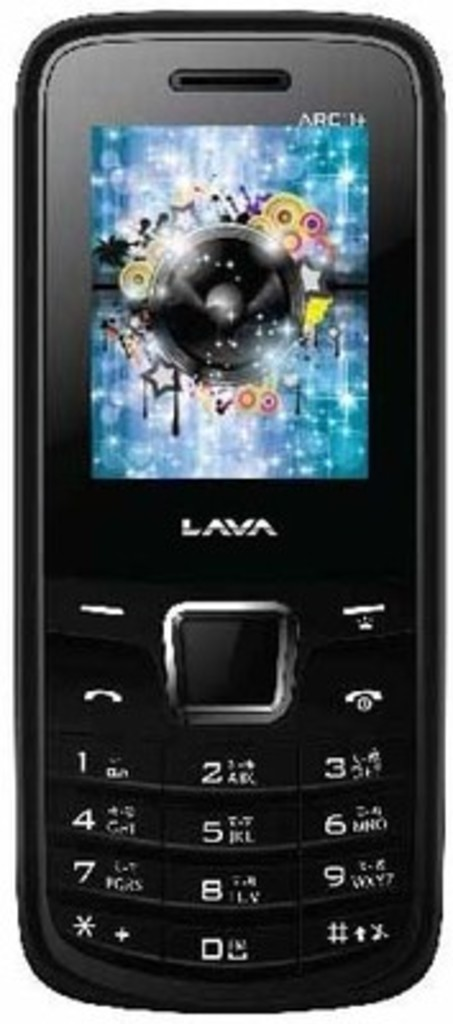mobile phone: (10, 12, 450, 1021)
